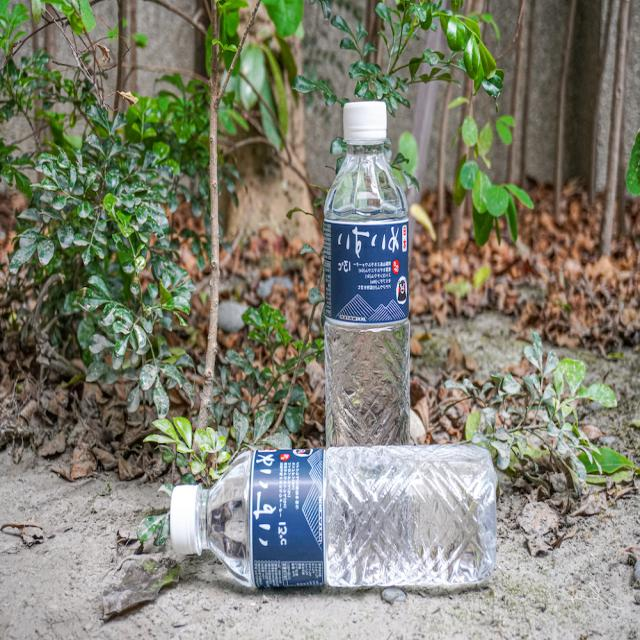plastic: (170, 442, 497, 586), (322, 100, 412, 446)
